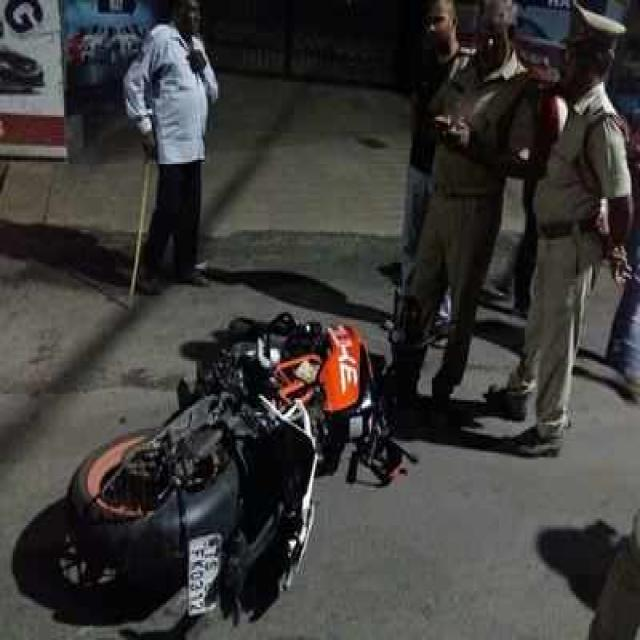accident: (14, 314, 399, 623)
